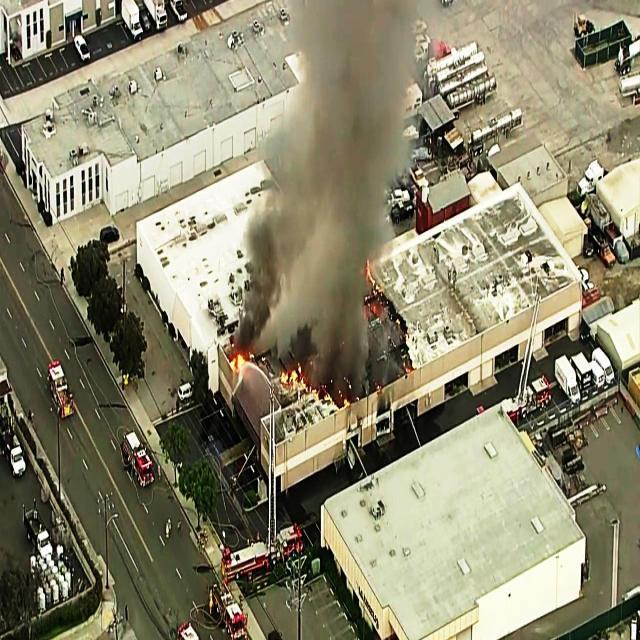Fire: (280, 362, 318, 396), (228, 352, 248, 374)
Smoke: (197, 0, 402, 354)
